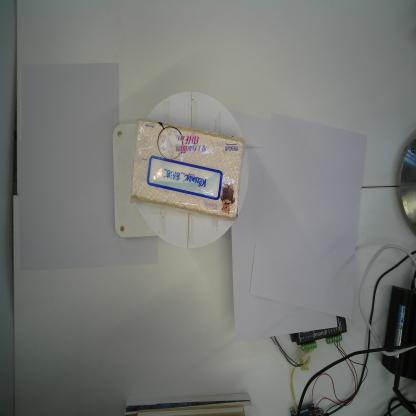Tissue: (128, 117, 244, 223)
